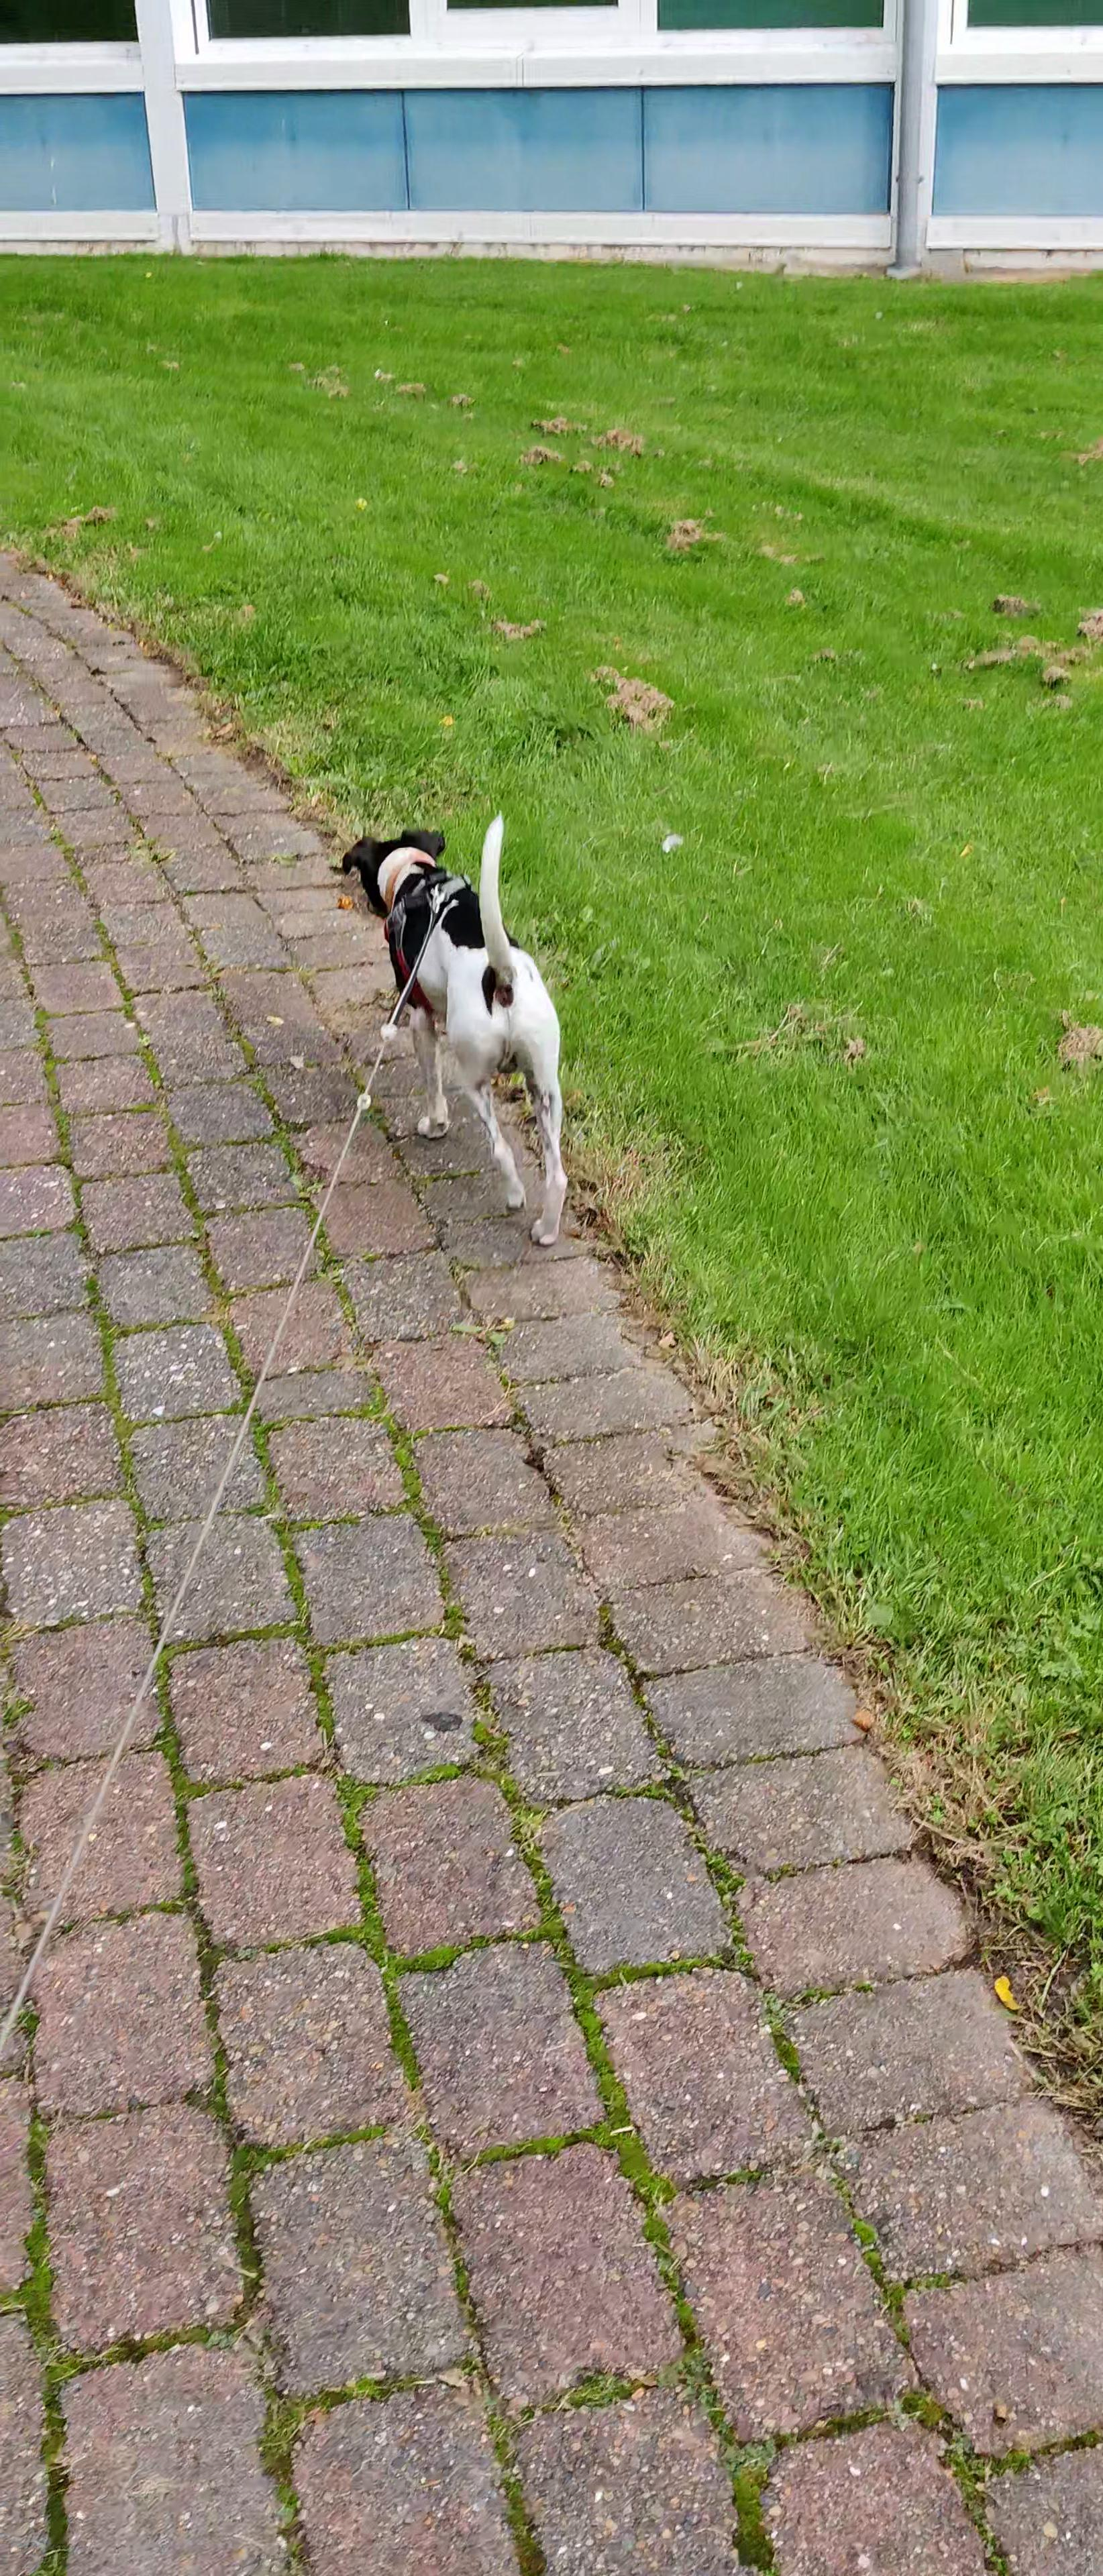Dog: (322, 805, 570, 1249)
